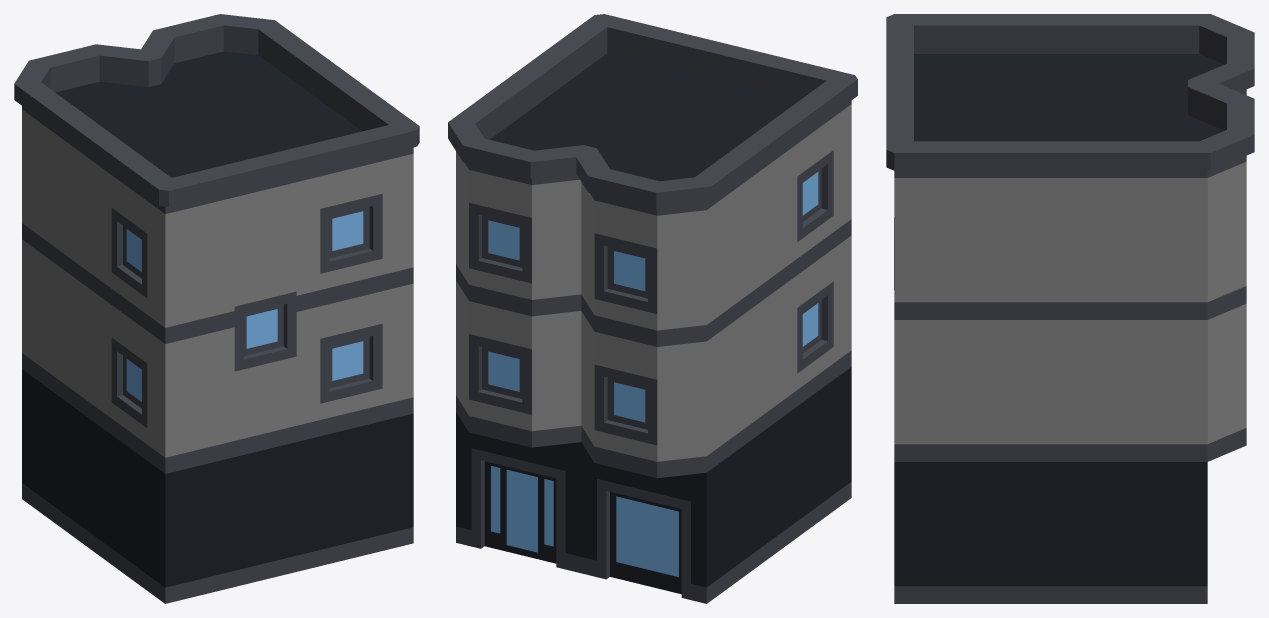
The model's file is variant_6.obj.
3 renders of one model, left to right at view 1: azimuth 30°, elevation 25°; view 2: azimuth 150°, elevation 25°; view 3: azimuth 270°, elevation 25°, orthographic. The views are drawn at different scales.
Parts seen in each view (by area): view 1: Building_copy, Window_copy; view 2: Building_copy; view 3: Building_copy.
Boxes of the visible parts, box(x1,y1,x2,y2) form: Building_copy: box(14, 14, 419, 603); Window_copy: box(234, 291, 296, 371); Building_copy: box(448, 14, 857, 603); Building_copy: box(886, 14, 1254, 603).
Bounding box in the file's own units: 0.84 × 1.28 × 0.94.
